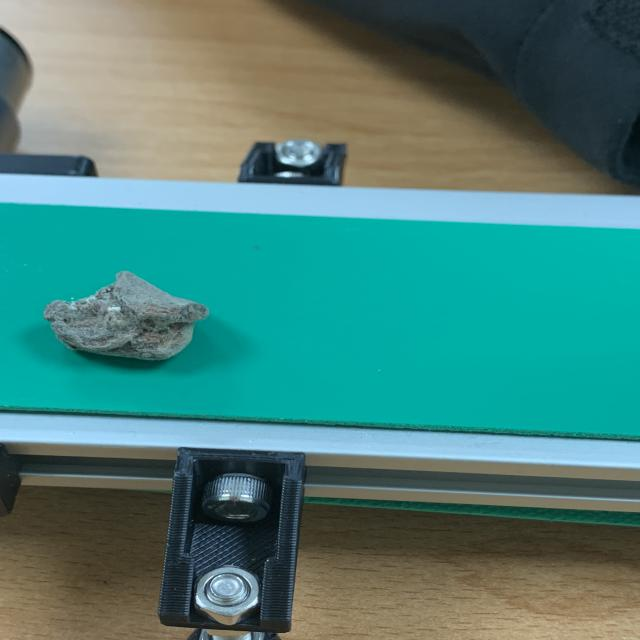Agglomerated_cocoabeans: (0, 268, 312, 393)
